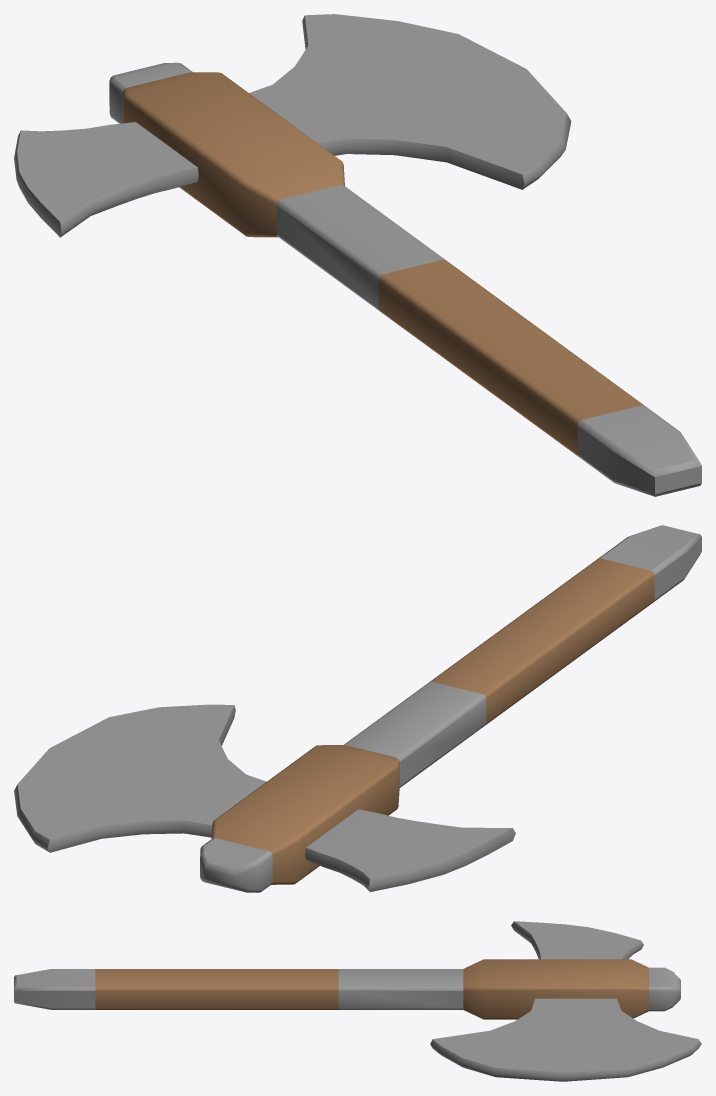
Rendered from Hatchet.fbx.
The picture shows the model from 3 angles, top to bottom: view 1: azimuth 30°, elevation 25°; view 2: azimuth 150°, elevation 25°; view 3: azimuth 270°, elevation 25°; orthographic projection. The views are drawn at different scales.
Parts seen in each view (by area): view 1: Hatchet; view 2: Hatchet; view 3: Hatchet.
Boxes of the visible parts, x1,y1,x2,y2 form: Hatchet: (14, 14, 701, 496); Hatchet: (14, 525, 701, 892); Hatchet: (14, 921, 701, 1081).
Bounding box in the file's own units: 58.37 × 5.92 × 111.
